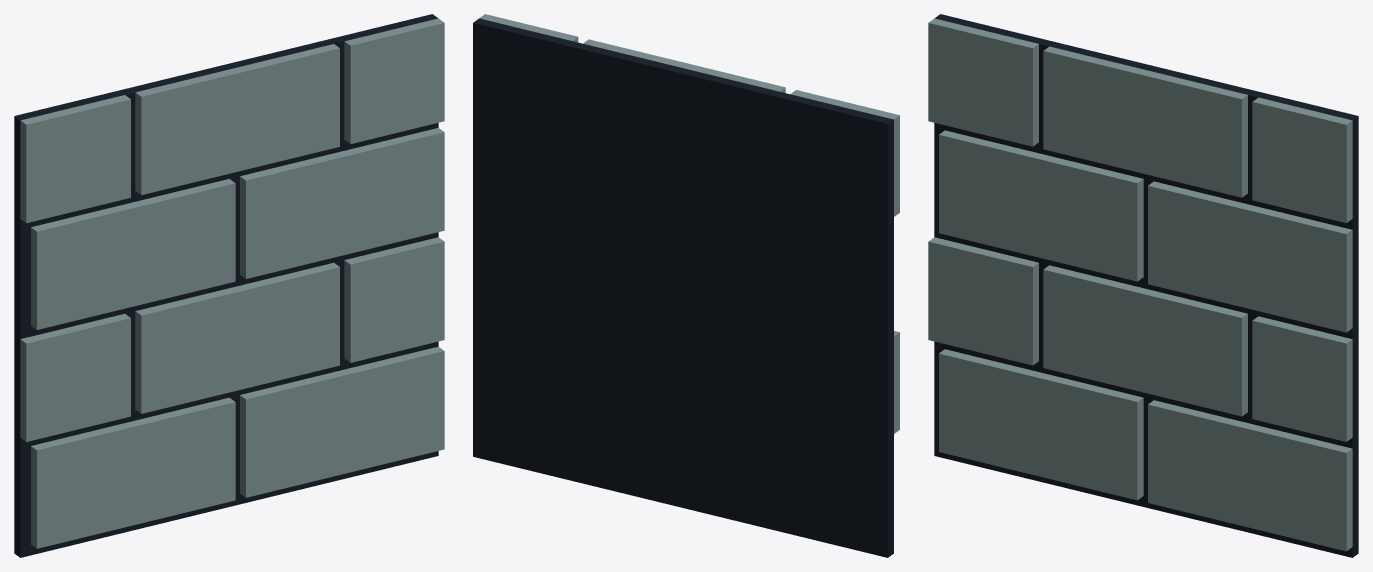
Rendered from LabWall0.obj.
3 renders of one model, left to right at view 1: azimuth 30°, elevation 25°; view 2: azimuth 150°, elevation 25°; view 3: azimuth 330°, elevation 25°, orthographic.
Size of the model in its own units: 4 by 4 by 0.2.
1 material, 1 textured.
